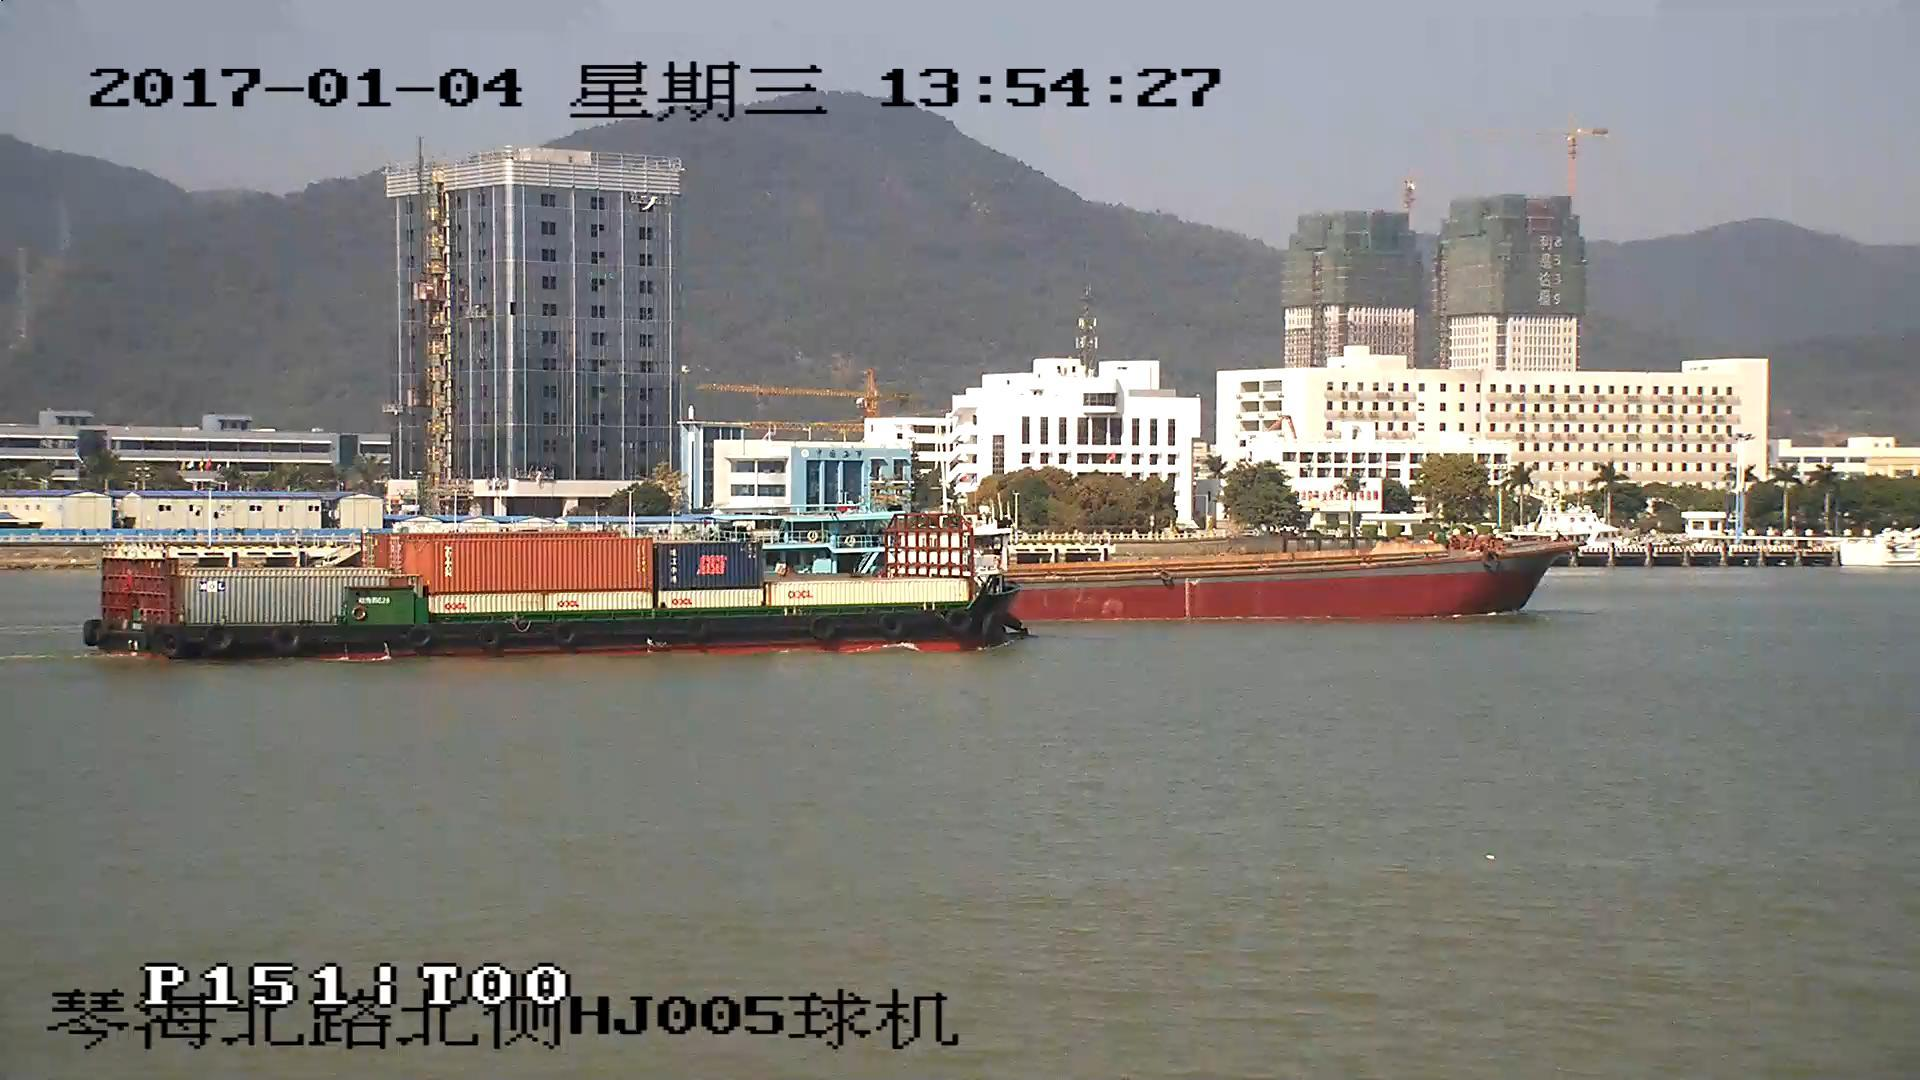Ship: (86, 516, 1018, 661), (1017, 539, 1581, 622)
